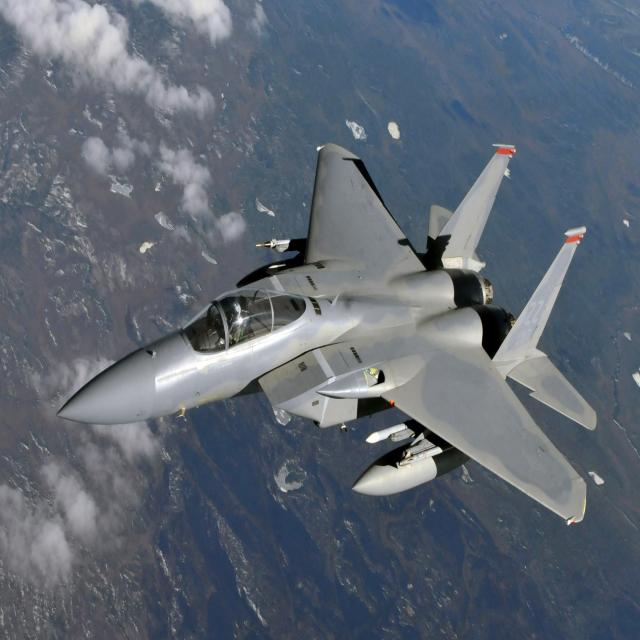F15: (41, 110, 617, 582)
